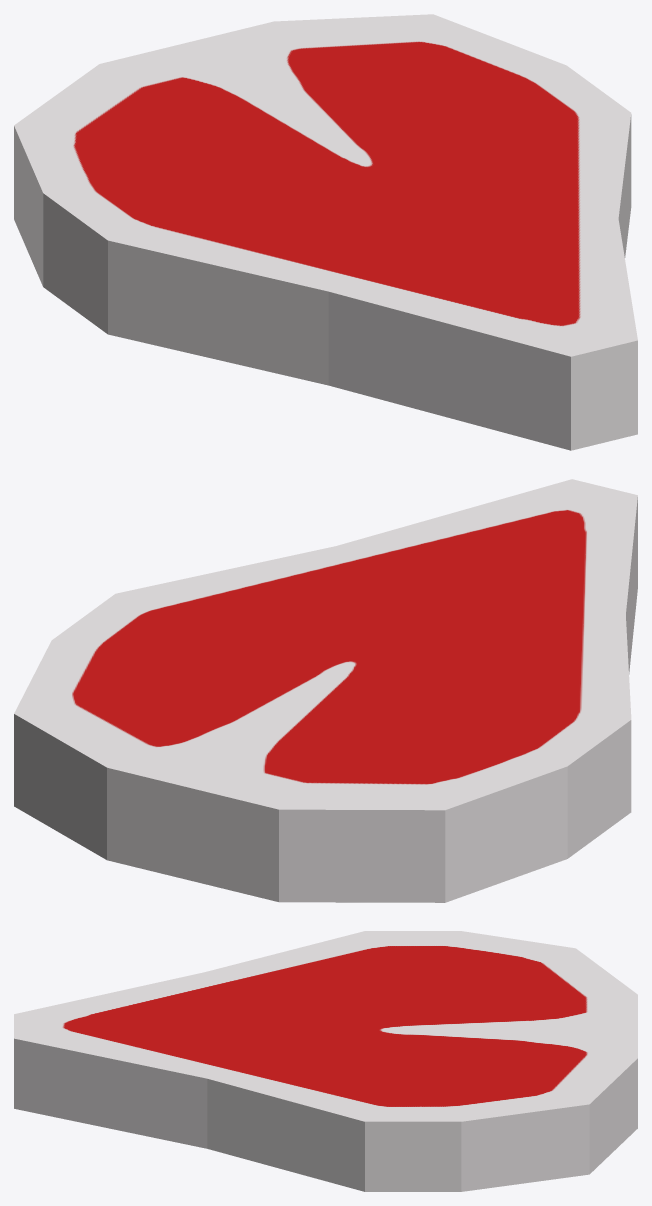
File: steak.fbx
3 renders of one model, top to bottom at view 1: azimuth 30°, elevation 25°; view 2: azimuth 150°, elevation 25°; view 3: azimuth 270°, elevation 25°, orthographic. The views are drawn at different scales.
Visible parts, largest first — view 1: Cube; view 2: Cube; view 3: Cube.
Part boxes in pixels (x1,y1,x2,y2): Cube: [14, 14, 637, 450]; Cube: [14, 479, 637, 902]; Cube: [14, 931, 637, 1191].
Size of the model in its own units: 343 by 58.87 by 474.
1 material, 1 textured.
